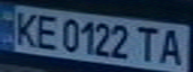0: (57, 16, 81, 54)
1: (78, 18, 96, 55)
2: (109, 20, 136, 61), (90, 19, 115, 57)
A: (157, 26, 190, 66)
E: (30, 11, 63, 51)
K: (9, 8, 42, 47)
T: (133, 24, 163, 63)
